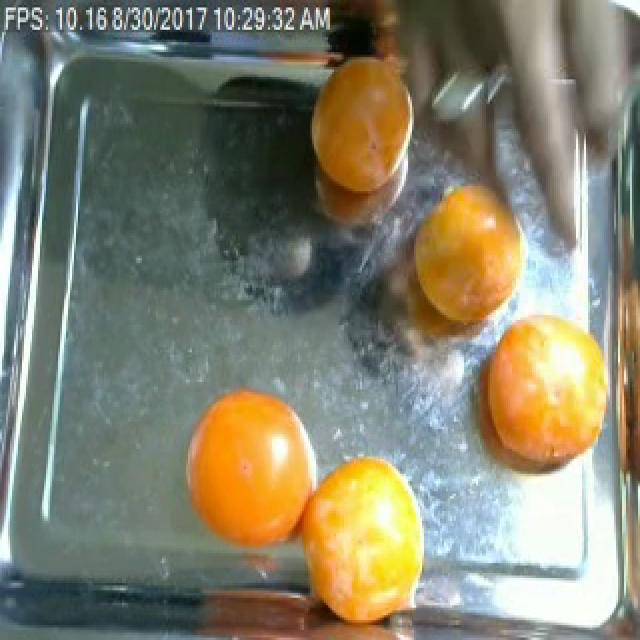Fruit: (278, 436, 442, 640), (458, 290, 614, 504), (382, 158, 542, 364), (174, 377, 326, 563), (296, 39, 430, 240)
